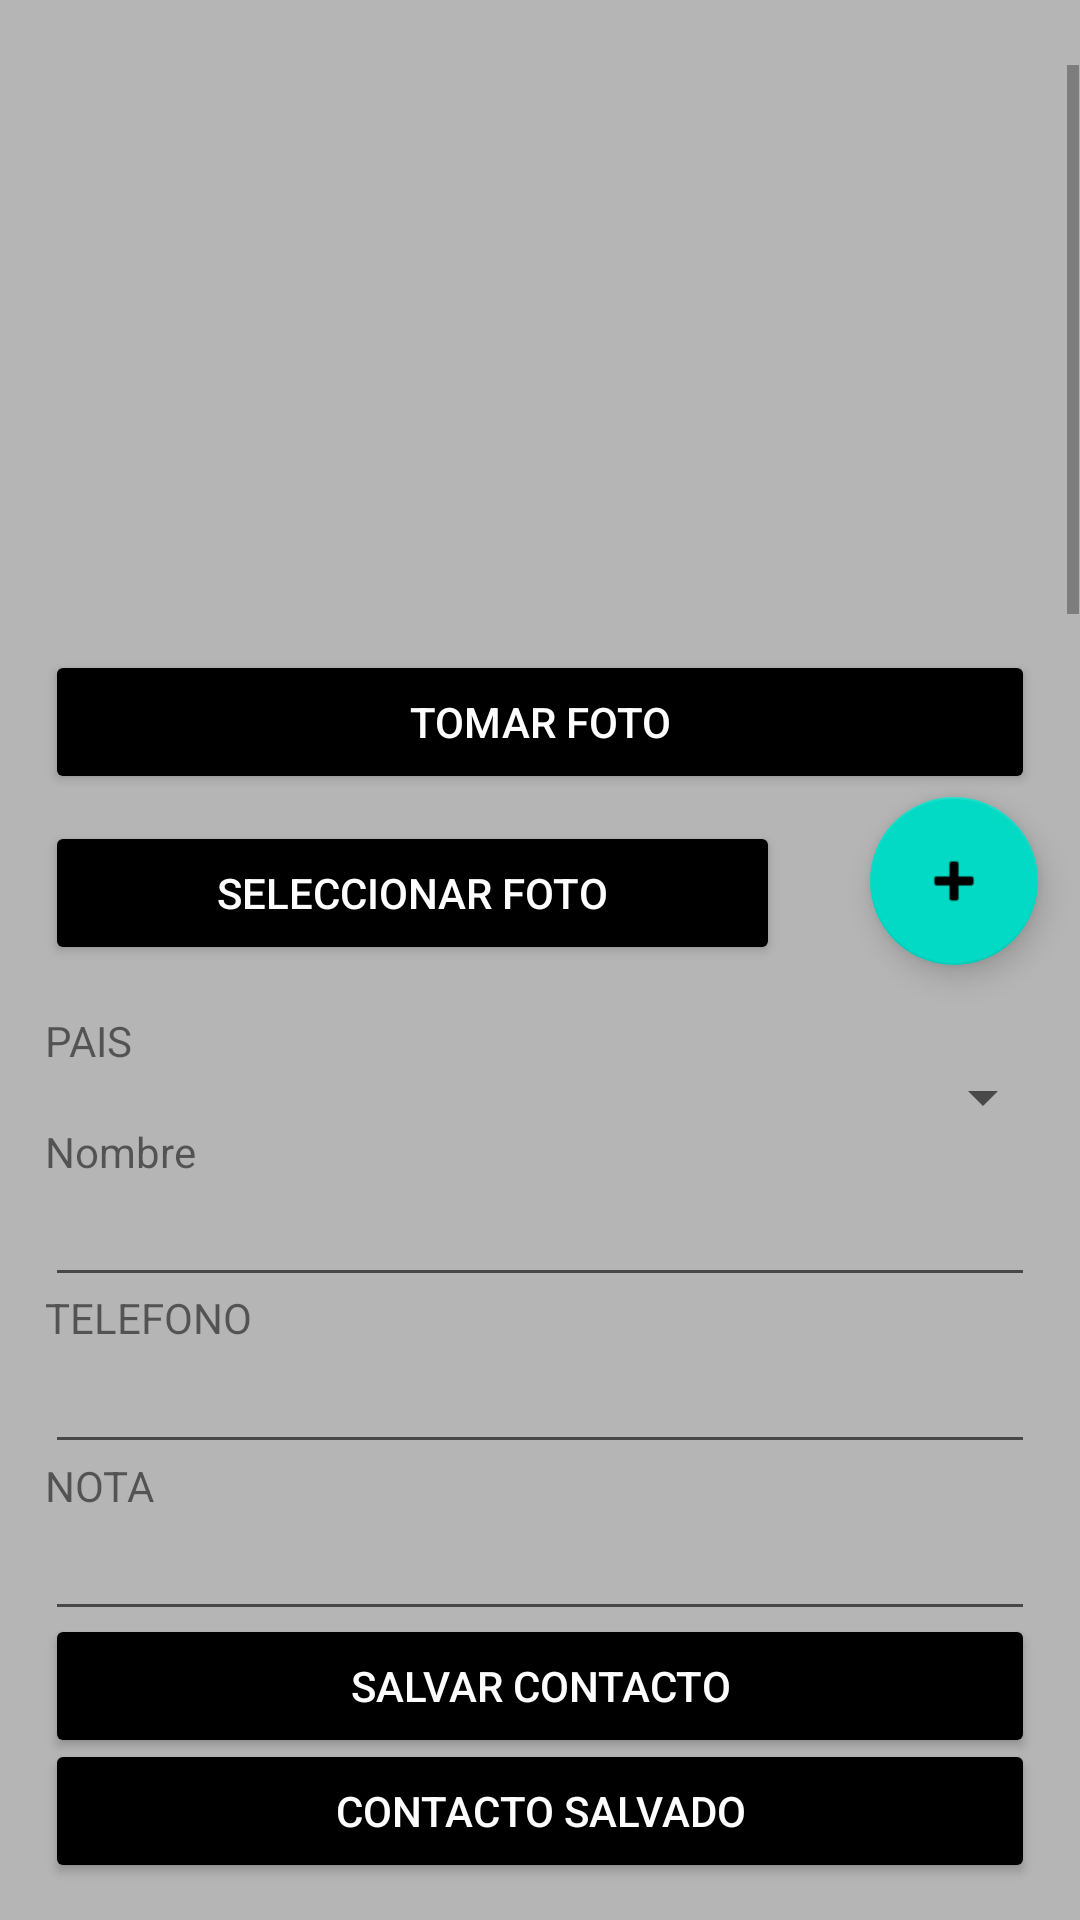

Where icons sit on this 1080 x 1920 app screen, as bbox(x1, y1, x2, y2):
add: bbox(870, 797, 1038, 965)
